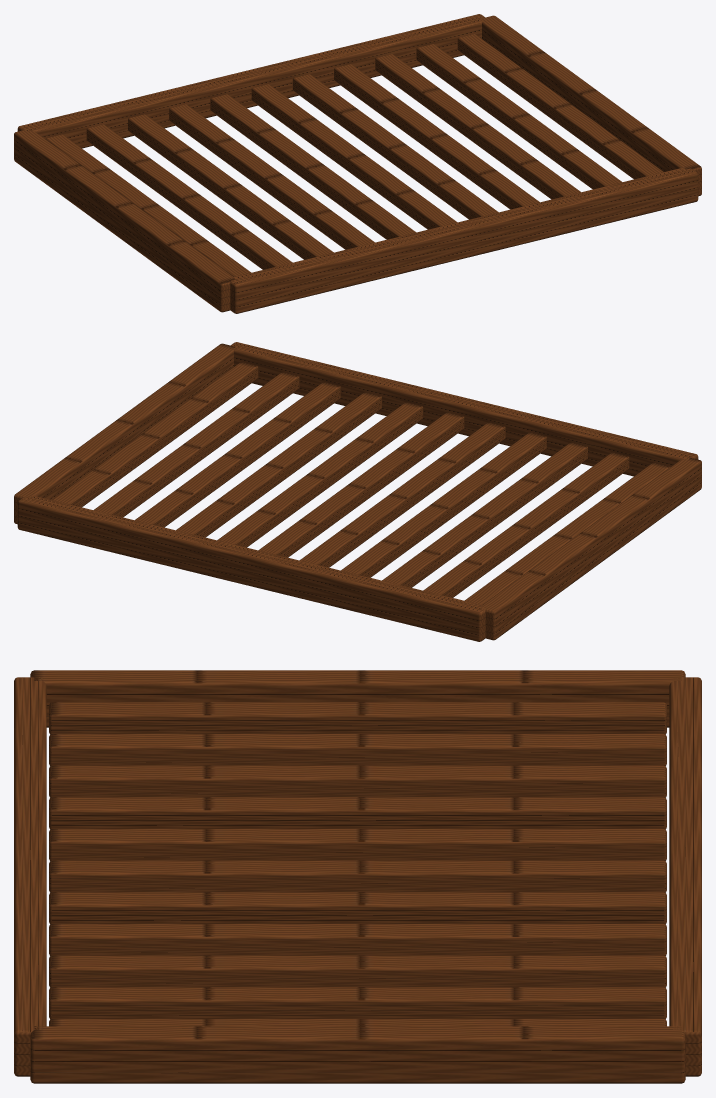
Rendered from flooded-and-coastal-survival-shellfish-drying-tray-0a28e877__20081.glb.
3 views of the same model, one above another, from view 1: azimuth 30°, elevation 25°; view 2: azimuth 150°, elevation 25°; view 3: azimuth 270°, elevation 25° (orthographic). The views are drawn at different scales.
Visible parts, largest first — view 1: shellfish-drying-tray; view 2: shellfish-drying-tray; view 3: shellfish-drying-tray.
Boxes of the visible parts, left/top/right/bottom form: shellfish-drying-tray: left=14, top=14, right=701, bottom=313; shellfish-drying-tray: left=14, top=342, right=701, bottom=641; shellfish-drying-tray: left=14, top=670, right=701, bottom=1083.
Bounding box in the file's own units: 0.935 × 0.055 × 0.735.
1 material, 1 textured.
